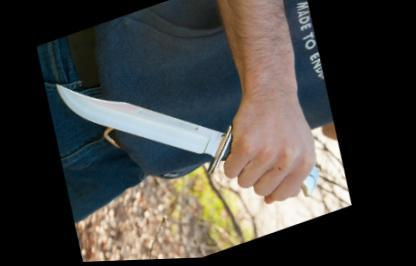knife: (36, 7, 322, 262)
